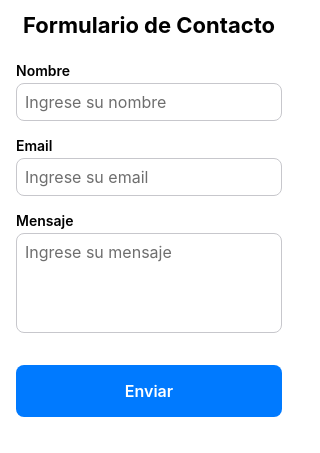
it: Form Component › Validation › shows error when message is empty
The image size is (320, 453).
Type "John Doe" into the field with test id "name-input" at (149, 102), box left=16, top=83, right=282, bottom=121
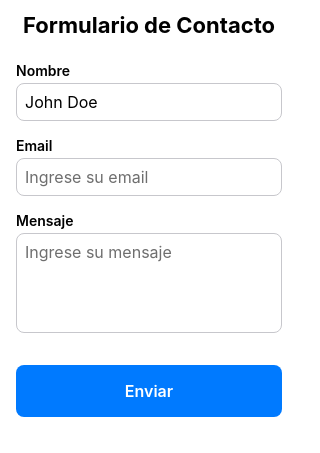
Type "john@example.com" into the field with test id "email-input" at (149, 177), box left=16, top=158, right=282, bottom=196
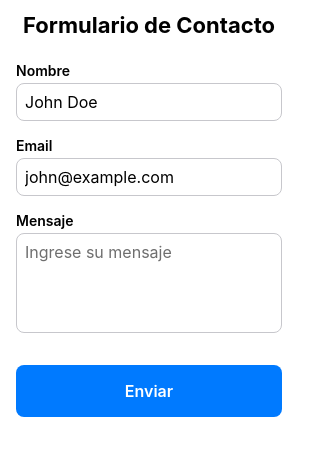
Click the element with test id "submit-button" at (149, 391), box left=16, top=365, right=282, bottom=417
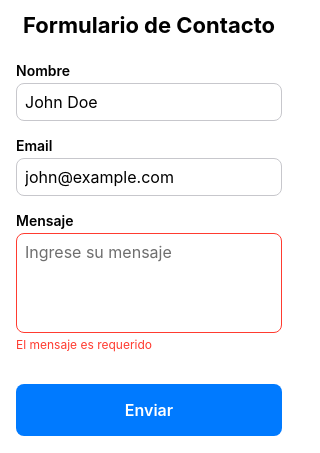
Check: the text with test id "message-error" reads "El mensaje es requerido", box left=16, top=337, right=152, bottom=352
